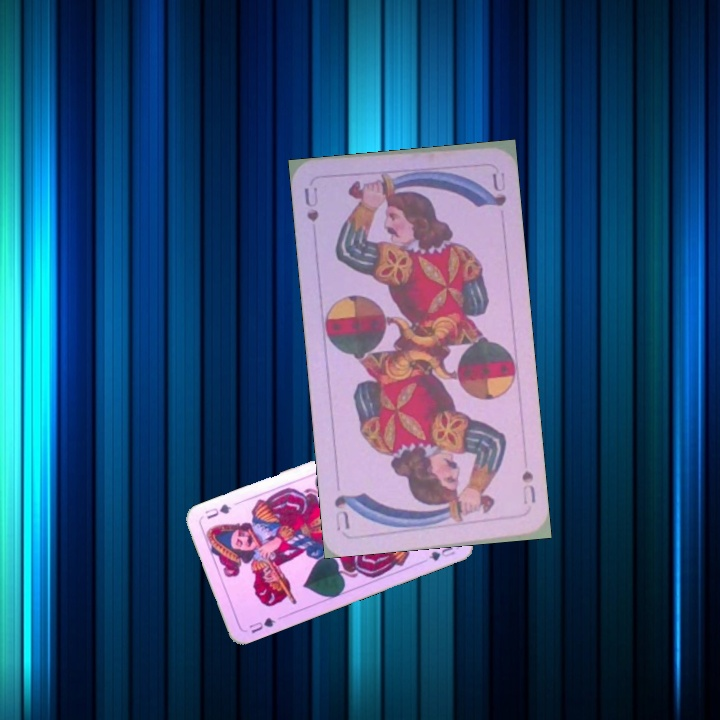GU: (245, 613, 278, 636)
SU: (300, 183, 321, 225), (517, 466, 538, 506)
